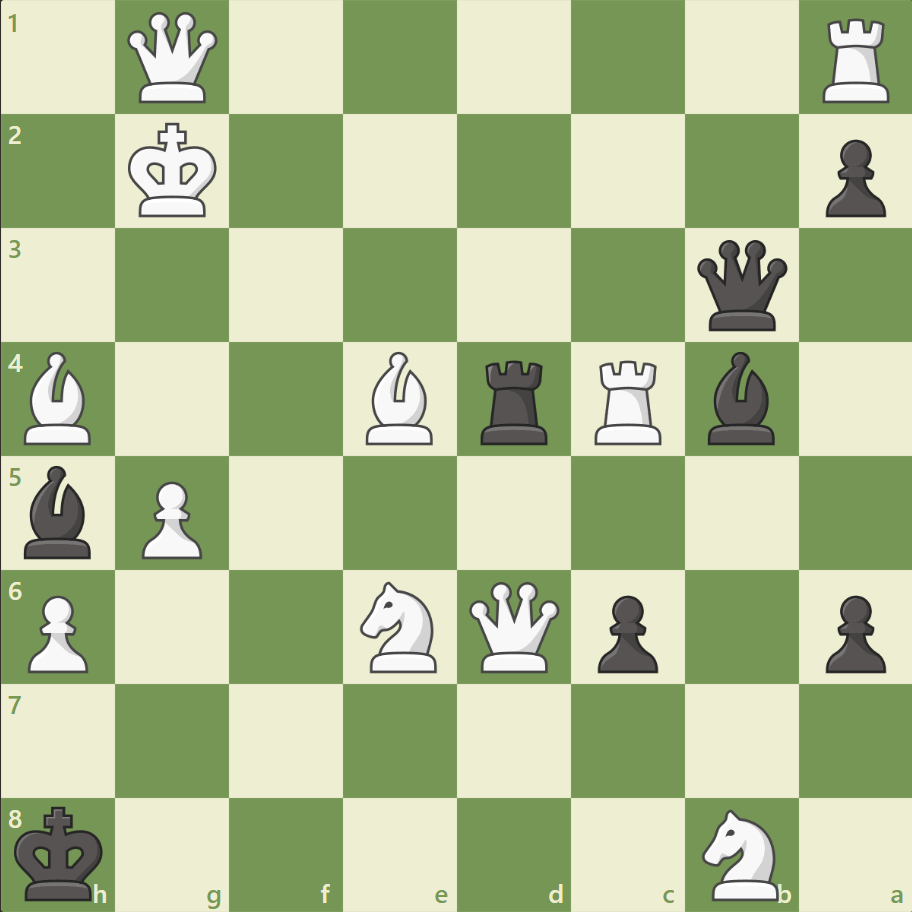B: (358, 347, 442, 449), (17, 347, 101, 449)
K: (124, 117, 224, 225)
N: (351, 575, 449, 677), (692, 802, 789, 904)
P: (20, 586, 95, 677), (133, 473, 208, 564)
Q: (464, 576, 563, 676), (124, 9, 223, 108)
R: (587, 352, 670, 449), (814, 12, 897, 109)
b: (17, 460, 101, 563), (698, 347, 782, 449)
k: (11, 798, 111, 906)
p: (815, 586, 889, 677), (588, 586, 662, 677), (815, 132, 889, 223)
q: (691, 236, 790, 335)
r: (473, 352, 556, 449)
